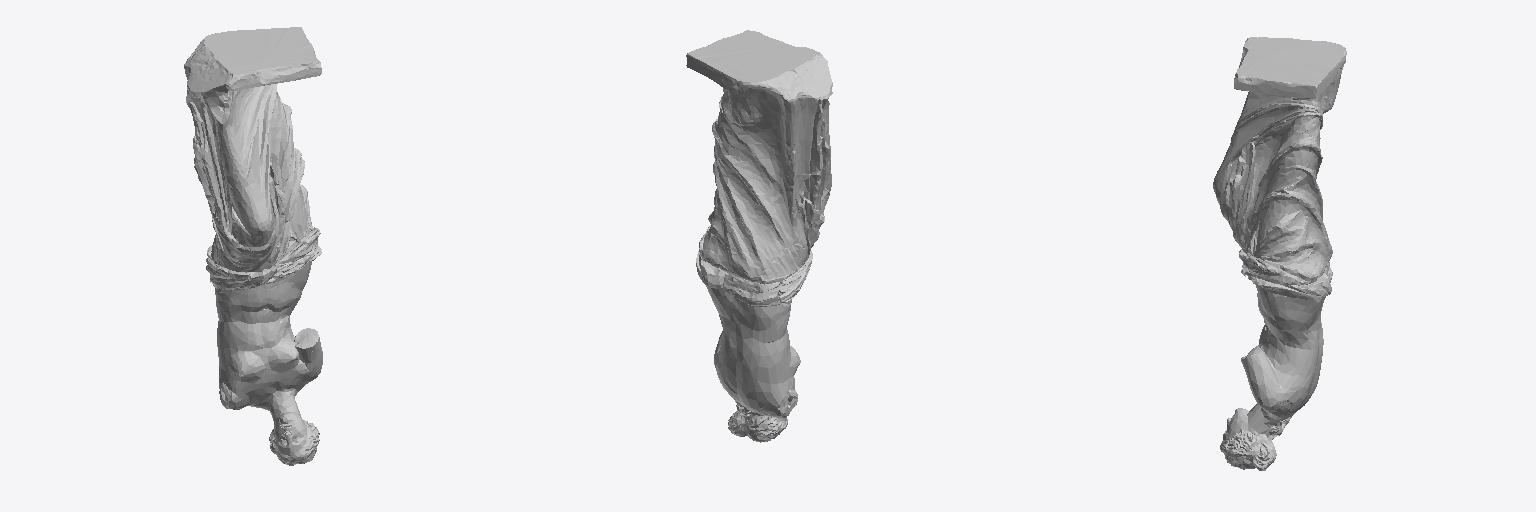
Rendered from venus14k.obj.
The picture shows the model from 3 angles: view 1: azimuth 30°, elevation 25°; view 2: azimuth 150°, elevation 25°; view 3: azimuth 270°, elevation 25°; orthographic projection.
Visible parts, largest first — view 1: Smk-Venus-De-Milo_Smk-Venus-De-Milo.003; view 2: Smk-Venus-De-Milo_Smk-Venus-De-Milo.003; view 3: Smk-Venus-De-Milo_Smk-Venus-De-Milo.003.
Boxes of the visible parts, box(x1,y1,x2,y2) form: Smk-Venus-De-Milo_Smk-Venus-De-Milo.003: box(184, 27, 322, 465); Smk-Venus-De-Milo_Smk-Venus-De-Milo.003: box(686, 30, 832, 442); Smk-Venus-De-Milo_Smk-Venus-De-Milo.003: box(1213, 37, 1346, 470).
Size of the model in its own units: 42.91 by 130 by 39.18.